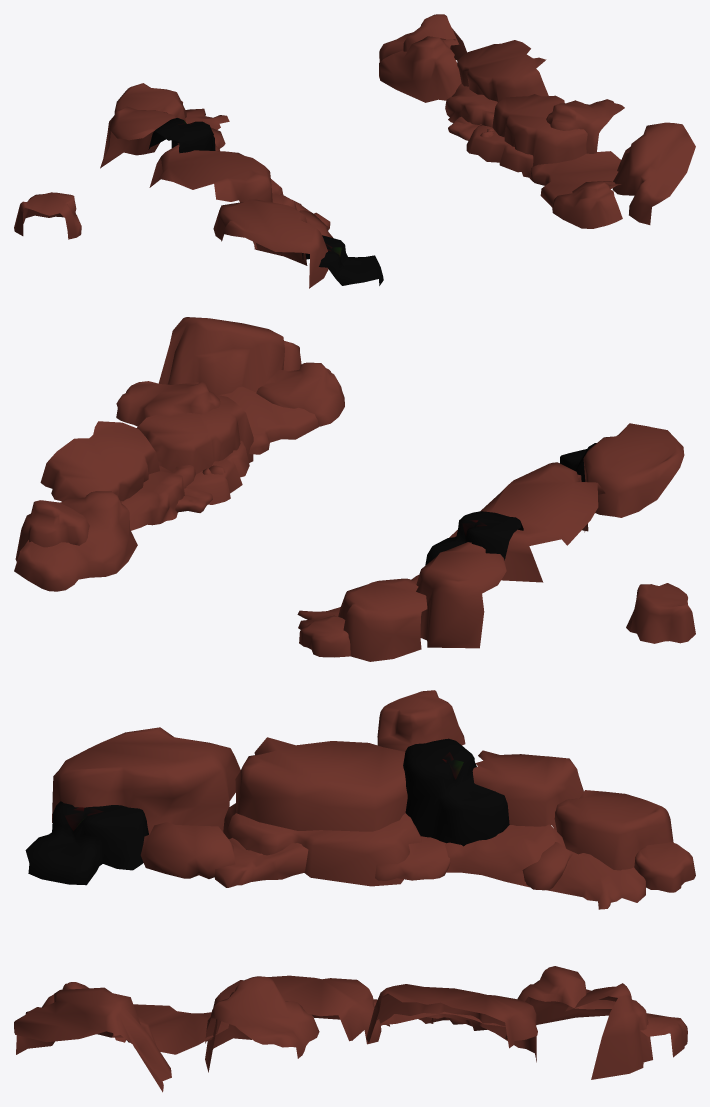
The model's file is Grassland03_MountainWall.fbx.
3 views of the same model, one above another, from view 1: azimuth 30°, elevation 25°; view 2: azimuth 150°, elevation 25°; view 3: azimuth 270°, elevation 25° (orthographic). The views are drawn at different scales.
Parts seen in each view (by area): view 1: Grassland03_MountainWall; view 2: Grassland03_MountainWall; view 3: Grassland03_MountainWall.
Part boxes in pixels (x1,y1,x2,y2): Grassland03_MountainWall: (14, 14, 695, 288); Grassland03_MountainWall: (14, 317, 695, 661); Grassland03_MountainWall: (14, 690, 695, 1092).
Size of the model in its own units: 2894 by 347 by 2205.
